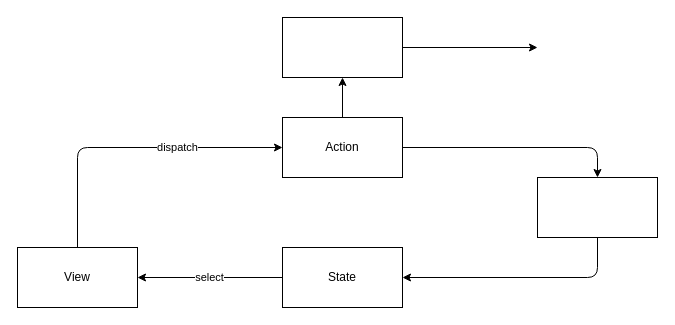
The diagram is 675 pixels wide and 325 high, and some of its shapes have lost their labels. The shapes that lost their labels are listed below. From the top down, each one's centre as x and y in pixels, then its label:
[342,47]: Seiteneffekte
[597,207]: Reducer
